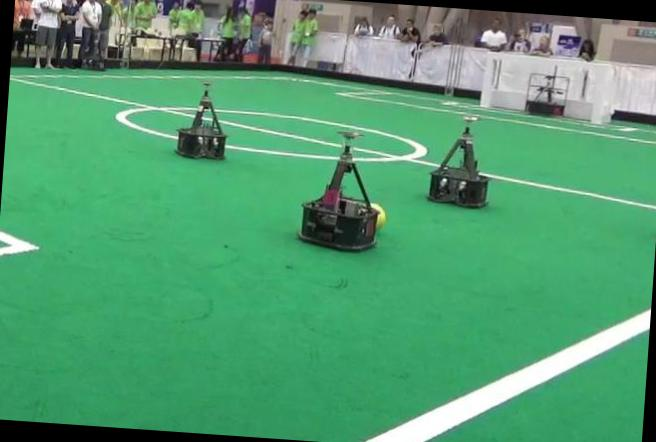ball: (371, 203, 386, 228)
goal: (590, 66, 608, 125), (480, 52, 495, 108)
person: (33, 0, 62, 69)
robot: (298, 132, 377, 249), (428, 126, 487, 206), (175, 89, 225, 158), (525, 73, 569, 115)
